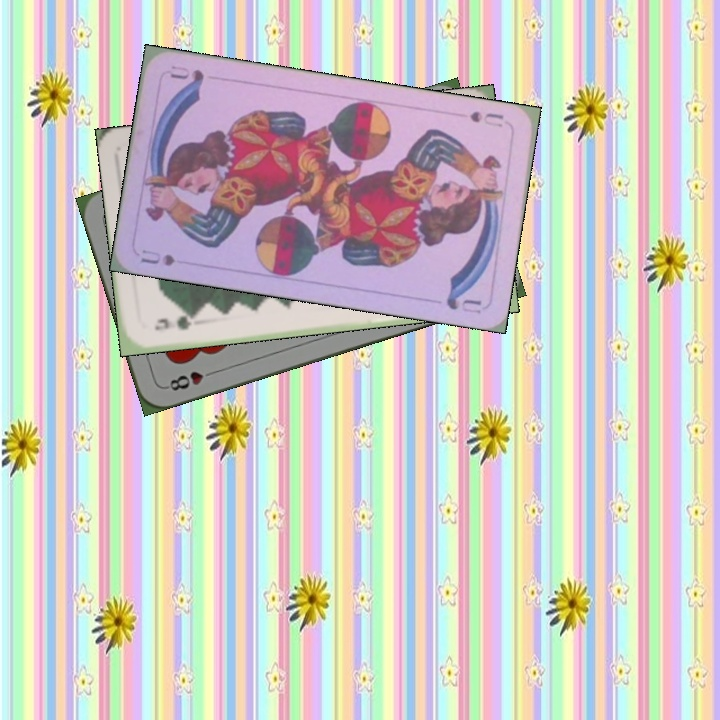G9: (151, 312, 199, 333)
H8: (161, 366, 219, 394)
SU: (136, 246, 178, 269), (466, 107, 506, 130)
